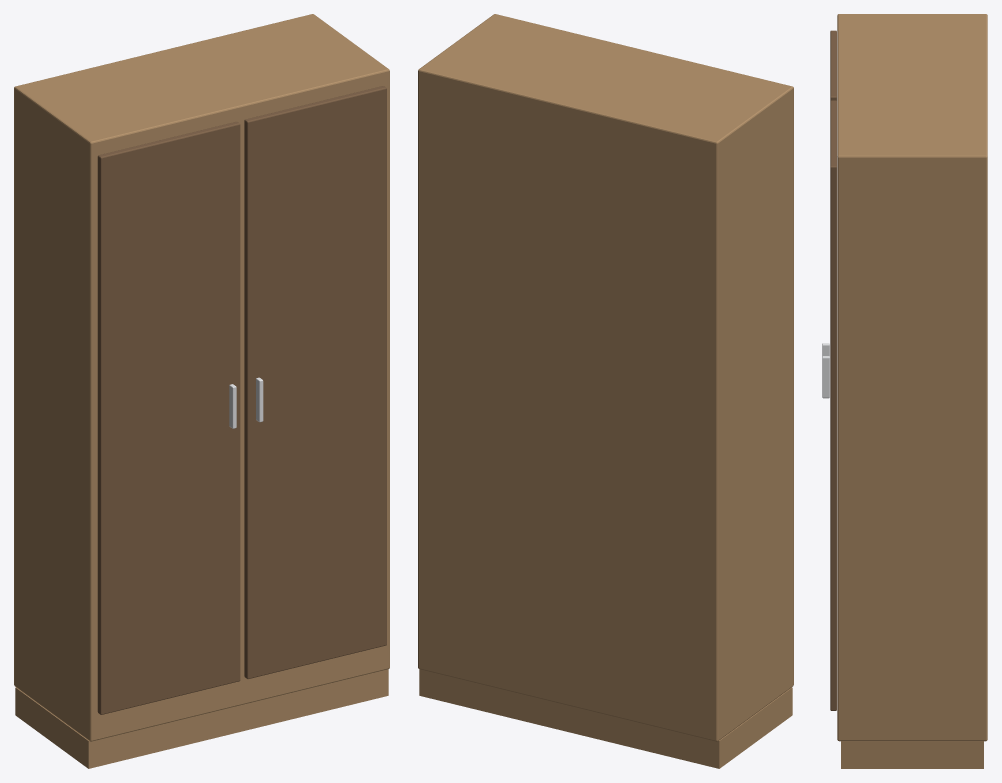
Rendered from furniture-cabinet.glb.
3 renders of one model, left to right at view 1: azimuth 30°, elevation 25°; view 2: azimuth 150°, elevation 25°; view 3: azimuth 270°, elevation 25°, orthographic. The views are drawn at different scales.
Parts seen in each view (by area): view 1: Carcass, DoorL, DoorR, Plinth; view 2: Carcass, Plinth; view 3: Carcass, DoorR, Plinth, DoorL, PullR.
Part boxes in pixels (box(x1,y1,x2,y2)): Carcass: box(14, 14, 389, 741); DoorL: box(97, 121, 240, 714); DoorR: box(244, 86, 386, 678); Plinth: box(15, 669, 388, 768); Carcass: box(418, 14, 793, 741); Plinth: box(419, 669, 792, 768); Carcass: box(837, 14, 987, 741); DoorR: box(830, 100, 836, 710); Plinth: box(841, 741, 983, 768); DoorL: box(830, 30, 836, 100); PullR: box(822, 356, 829, 398).
Bounding box in the file's own units: 0.9 × 1.8 × 0.44.
